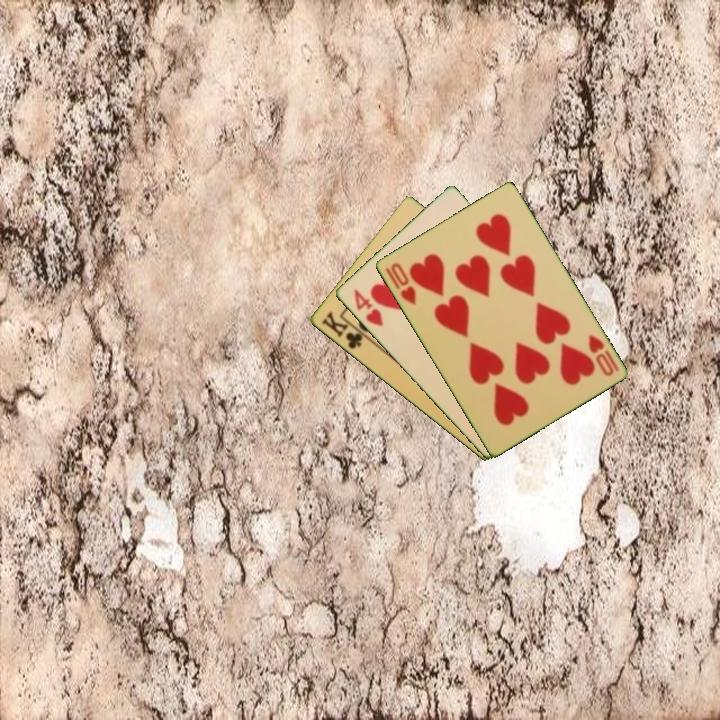10h: (381, 259, 419, 309), (584, 331, 621, 379)
4h: (350, 285, 386, 329)
Kc: (317, 308, 371, 352)
